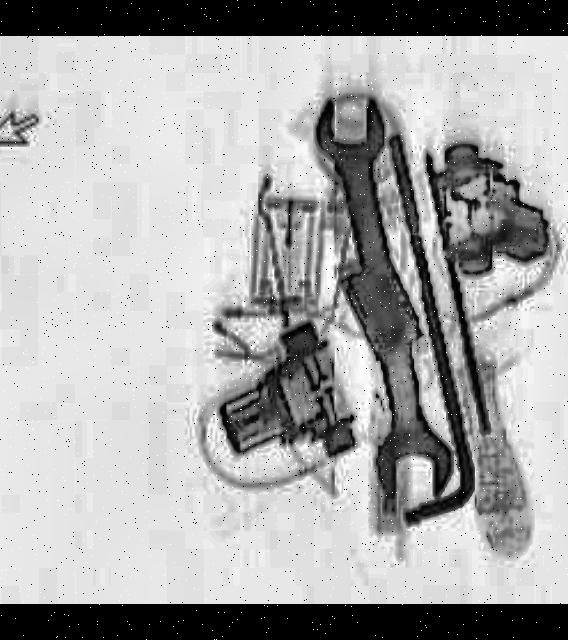Wrench: (299, 92, 455, 512)
